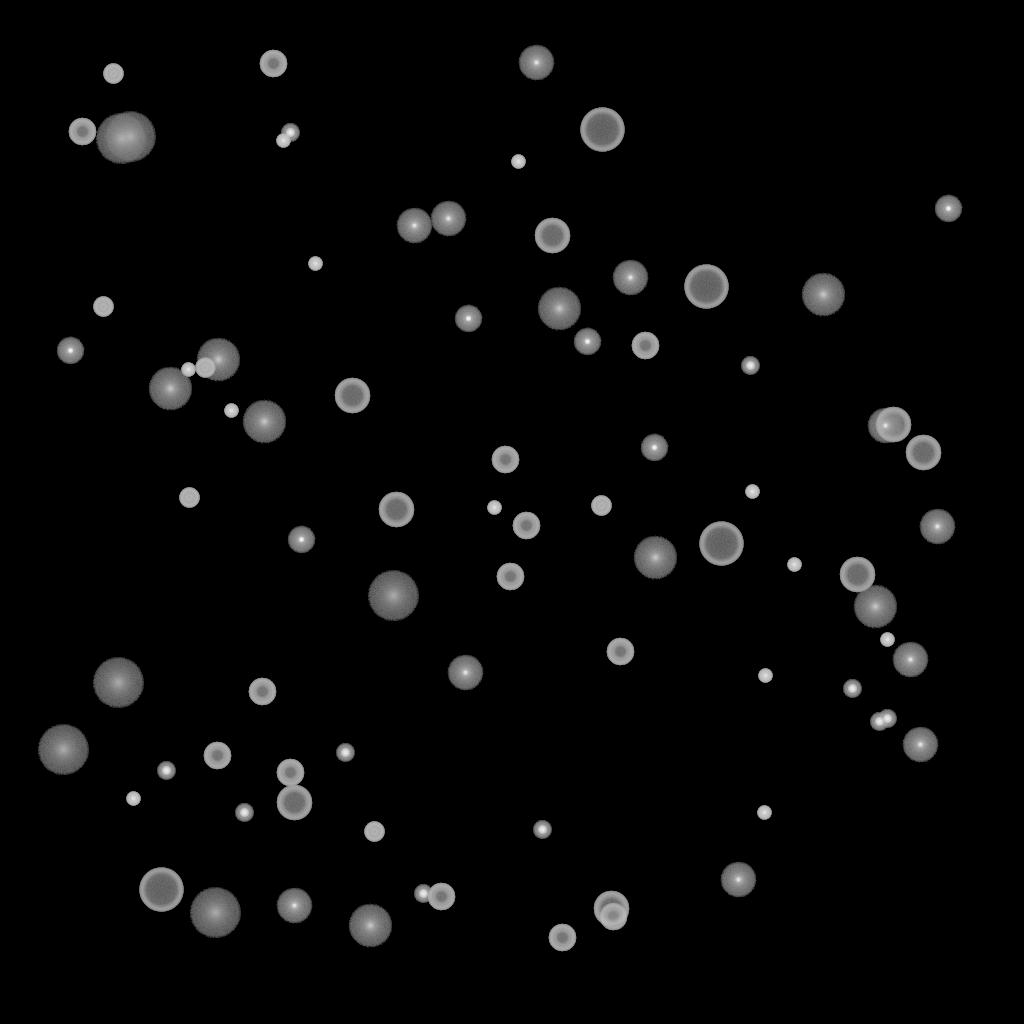depth:-10: (934, 195, 962, 223), (454, 305, 482, 333), (287, 526, 315, 554), (573, 328, 601, 356), (56, 337, 84, 365), (640, 434, 668, 462)
depth:-20: (414, 885, 432, 903), (533, 821, 551, 839), (843, 680, 861, 698), (235, 804, 253, 822), (741, 357, 759, 375), (281, 124, 299, 142), (870, 713, 888, 731), (878, 710, 896, 728), (157, 762, 175, 780), (336, 744, 354, 762)
depth:-30: (181, 363, 195, 377), (308, 257, 322, 271), (757, 806, 771, 820), (276, 134, 290, 148), (758, 669, 772, 683), (511, 155, 525, 169), (745, 485, 759, 499), (787, 558, 801, 572), (880, 633, 894, 647), (487, 501, 501, 515), (224, 404, 238, 418), (126, 792, 140, 806)
depth:-40: (364, 822, 384, 842), (195, 358, 215, 378), (591, 496, 611, 516), (93, 297, 113, 317), (103, 64, 123, 84), (179, 488, 199, 508)
depth:-50: (276, 759, 304, 787), (496, 563, 524, 591), (203, 742, 231, 770), (259, 50, 287, 78), (512, 512, 540, 540), (427, 883, 455, 911), (248, 678, 276, 706), (631, 332, 659, 360), (606, 638, 634, 666), (491, 446, 519, 474), (548, 924, 576, 952), (599, 903, 627, 931), (68, 118, 96, 146)
depth:-60: (534, 218, 570, 254), (593, 891, 629, 927), (276, 785, 312, 821), (839, 557, 875, 593), (334, 378, 370, 414), (905, 435, 941, 471), (378, 492, 414, 528), (875, 407, 911, 443)
depth:-70: (684, 265, 728, 309), (139, 868, 183, 912), (580, 108, 624, 152), (699, 522, 743, 566)
depth:0: (447, 655, 483, 691), (867, 408, 903, 444), (919, 509, 955, 545), (430, 201, 466, 237), (902, 727, 938, 763), (612, 260, 648, 296), (396, 208, 432, 244), (276, 888, 312, 924), (892, 642, 928, 678), (720, 862, 756, 898), (518, 45, 554, 81)
depth:10: (633, 536, 677, 580), (348, 904, 392, 948), (537, 287, 581, 331), (196, 338, 240, 382), (853, 585, 897, 629), (148, 367, 192, 411), (801, 273, 845, 317), (242, 400, 286, 444)
depth:20: (367, 571, 419, 621), (95, 114, 147, 164), (37, 725, 89, 775), (189, 888, 241, 938), (104, 112, 156, 162), (92, 658, 144, 708)
